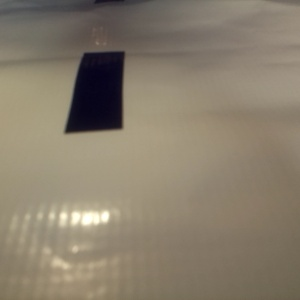bottom_right: (79, 154, 268, 281)
